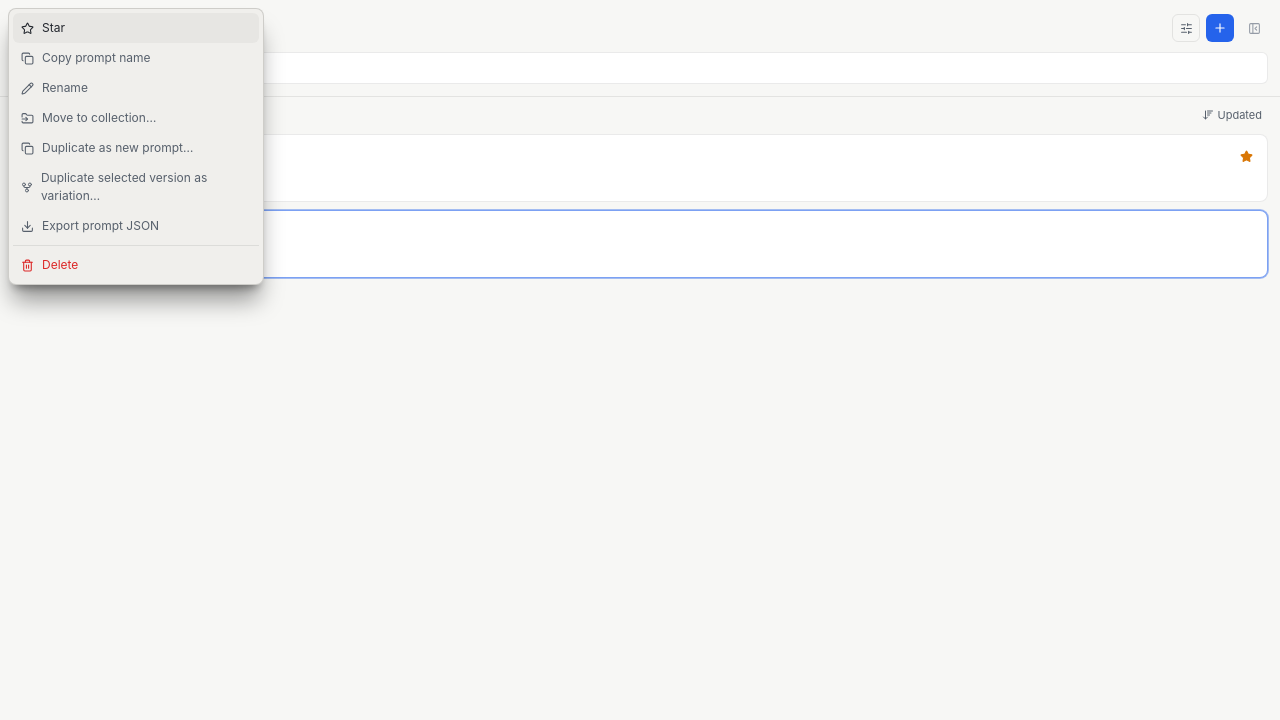
Test: PromptListPane context menu › copies the right-clicked prompt name
Click the menu item "Copy prompt name" at (136, 58), box [13,43,259,73]
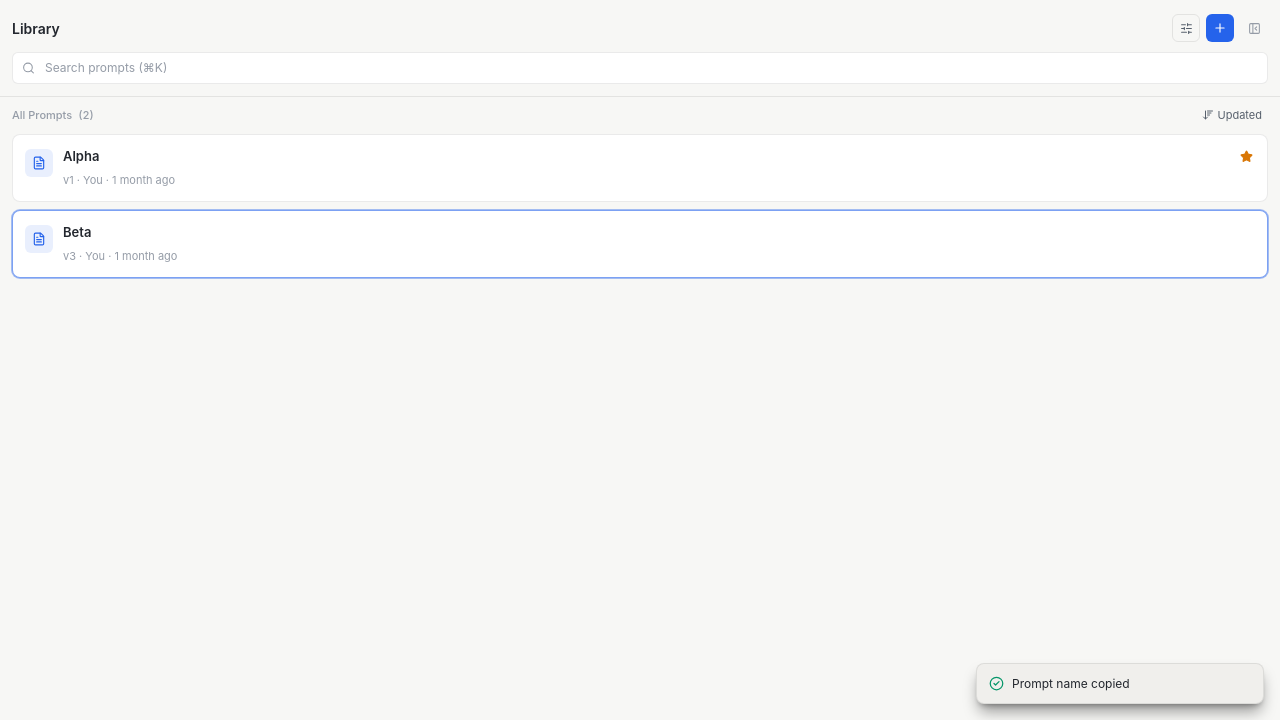
expect the message reads "Prompt name copied": met, box [1012,676,1130,690]
